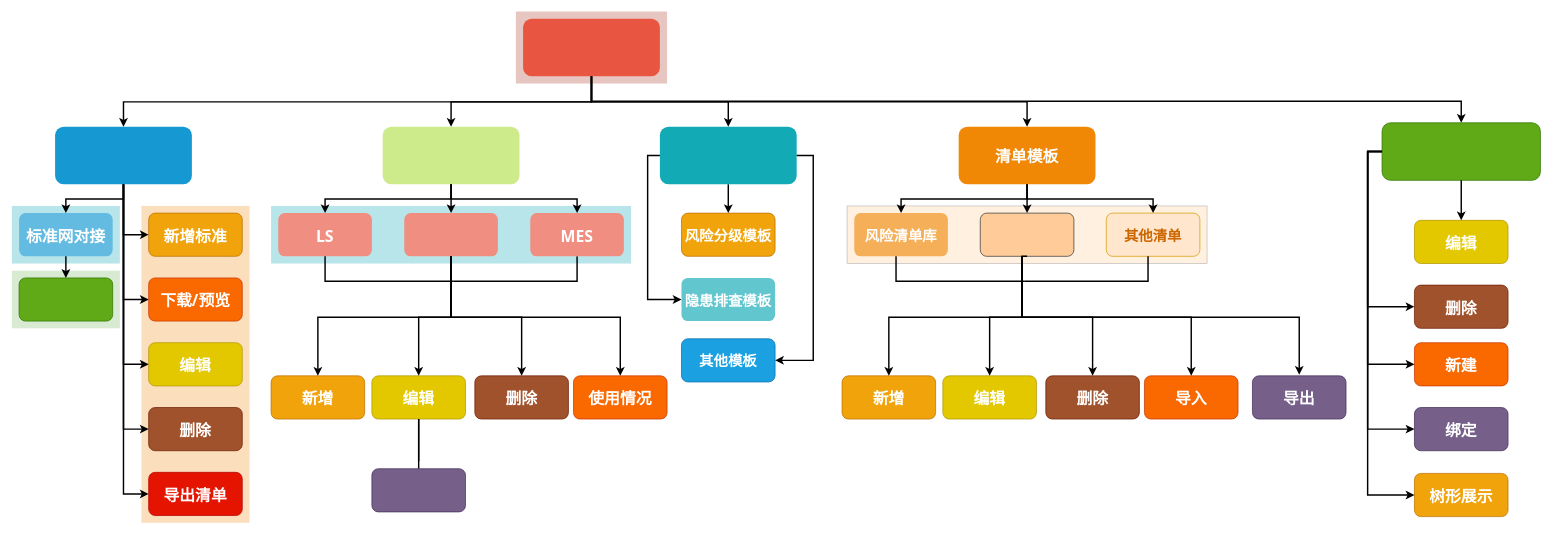
Image size: 1552x534. Some labels were removed from this diagram. The shapes that lost their labels are listed below. From the top down, each one's centre as x and y in pixels, then its label:
At (x=591, y=47): "安全知识库管理".
At (x=123, y=155): "标准规范库".
At (x=450, y=155): "风险矩阵".
At (x=728, y=155): "配置模板".
At (x=1460, y=151): "预定义分类（值域）".
At (x=451, y=234): "LEC".
At (x=1027, y=234): "隐患清单库".
At (x=65, y=299): "标准入库".
At (x=418, y=490): "定制化".
